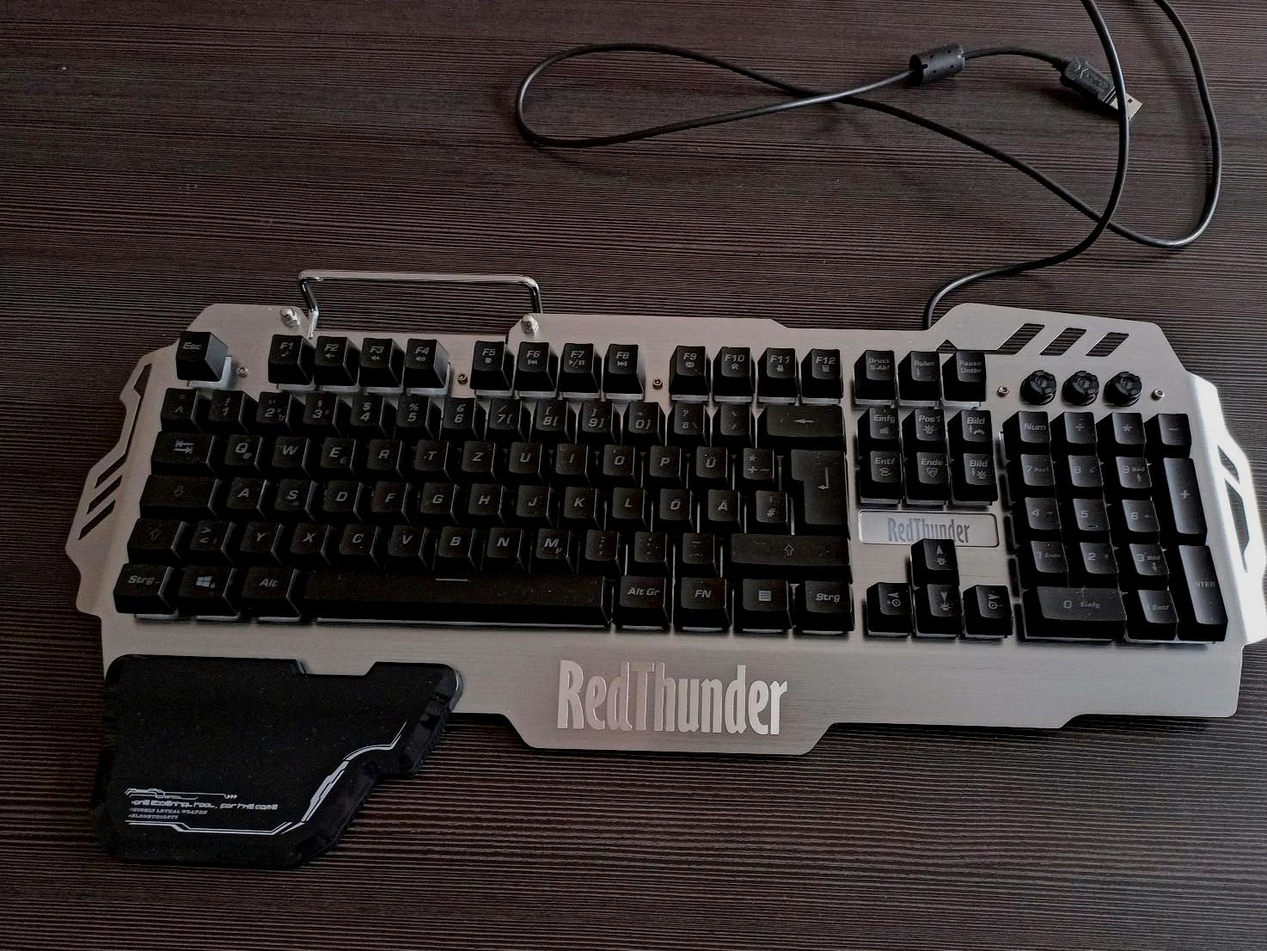0: (623, 397, 658, 433)
1: (205, 386, 242, 420)
2: (253, 387, 288, 423)
3: (298, 389, 335, 424)
4: (346, 390, 381, 424)
5: (393, 391, 427, 426)
6: (438, 394, 474, 428)
7: (485, 393, 518, 430)
8: (530, 395, 566, 431)
9: (577, 396, 611, 432)
a: (223, 473, 263, 507)
accent: (716, 399, 749, 434)
ae: (704, 484, 738, 520)
alt-left: (237, 561, 294, 598)
altgr-right: (614, 571, 665, 607)
b: (433, 522, 473, 556)
c: (335, 519, 376, 554)
caret: (160, 384, 195, 420)
comma: (582, 525, 616, 559)
d: (320, 475, 357, 511)
del: (762, 401, 842, 437)
e: (316, 433, 352, 467)
enter: (787, 445, 845, 525)
f: (368, 476, 405, 512)
g: (416, 478, 452, 513)
h: (465, 479, 500, 513)
hash: (752, 486, 787, 521)
i: (552, 439, 586, 472)
j: (513, 481, 548, 515)
k: (560, 482, 595, 518)
keyboard: (106, 322, 1247, 651)
l: (609, 482, 642, 518)
less: (186, 515, 229, 549)
m: (530, 525, 568, 559)
minus: (679, 529, 713, 562)
n: (483, 523, 520, 557)
o: (599, 440, 633, 473)
oe: (656, 484, 689, 518)
p: (646, 442, 680, 475)
plus: (738, 443, 772, 478)
point: (631, 527, 665, 561)
q: (221, 430, 260, 463)
r: (364, 434, 400, 468)
s: (272, 475, 309, 509)
shift-left: (124, 515, 181, 549)
shift-lock: (138, 472, 216, 507)
shift-right: (725, 530, 847, 563)
space: (297, 568, 607, 612)
ss: (669, 400, 703, 433)
strg-left: (109, 559, 170, 598)
strg-right: (799, 575, 852, 614)
t: (411, 435, 446, 469)
tab: (148, 429, 212, 464)
u: (506, 438, 541, 471)
ue: (692, 442, 725, 476)
v: (384, 520, 424, 555)
w: (269, 431, 305, 465)
x: (287, 518, 327, 552)
y: (236, 517, 278, 551)
z: (458, 437, 493, 470)
